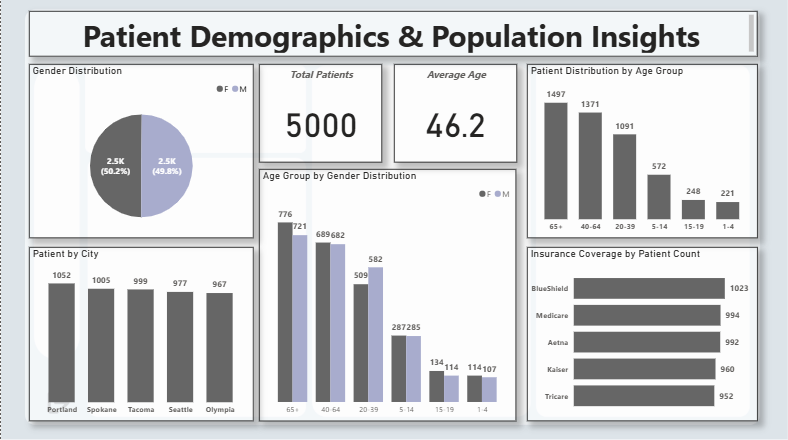

This screenshot's page, from the dashboard's own definition file:
{"tool":"powerbi","page":{"name":"Demographics","canvas":[1280,720],"ordinal":4},"visuals":[{"type":"card","fields":{"Values":["_Measure Table.Total Patients"]},"box":[420,106.7,200,160],"z":0},{"type":"pieChart","title":"Gender Distribution","fields":{"Y":["_Measure Table.Total Patients"],"Series":["patients.gender"]},"box":[45,106.7,365,283.3],"z":1000},{"type":"textbox","box":[45.4,21.8,1184.3,73.9],"z":2000},{"type":"columnChart","title":"Patient Distribution by Age Group","fields":{"Category":["patients.Age Group"],"Y":["_Measure Table.Total Patients"]},"box":[855,106.7,375,283.3],"z":3000},{"type":"columnChart","title":"Patient by City","fields":{"Category":["patients.city"],"Y":["_Measure Table.Total Patients"]},"box":[45,405,365,283.3],"z":4000},{"type":"clusteredColumnChart","title":"Age Group by Gender Distribution","fields":{"Category":["patients.Age Group"],"Y":["_Measure Table.Total Patients"],"Series":["patients.gender"]},"box":[420,278.3,418.3,410],"z":5000},{"type":"barChart","title":"Insurance Coverage by Patient Count","fields":{"Category":["patients.insurance_provider"],"Y":["_Measure Table.Patient per insurance"]},"box":[855,405,375,283.3],"z":6000},{"type":"card","fields":{"Values":["_Measure Table.Average Age"]},"box":[638.3,106.7,200,160],"z":7000}]}

Visuals, with their boxes in screenshot pixels (x1, y1, x2, y2), scaled from the page's 1280x720 canvas onto the 788x440 screenshot:
card - _Measure Table.Total Patients: (259,65,382,163)
"Gender Distribution" pieChart: (28,65,252,238)
textbox: (28,13,757,58)
"Patient Distribution by Age Group" columnChart: (526,65,757,238)
"Patient by City" columnChart: (28,248,252,421)
"Age Group by Gender Distribution" clusteredColumnChart: (259,170,516,421)
"Insurance Coverage by Patient Count" barChart: (526,248,757,421)
card - _Measure Table.Average Age: (393,65,516,163)
